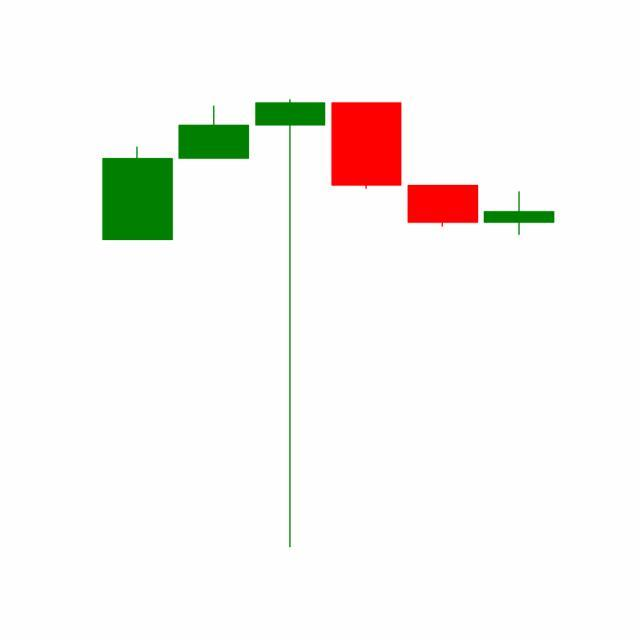Marubozu: (404, 185, 482, 228)
